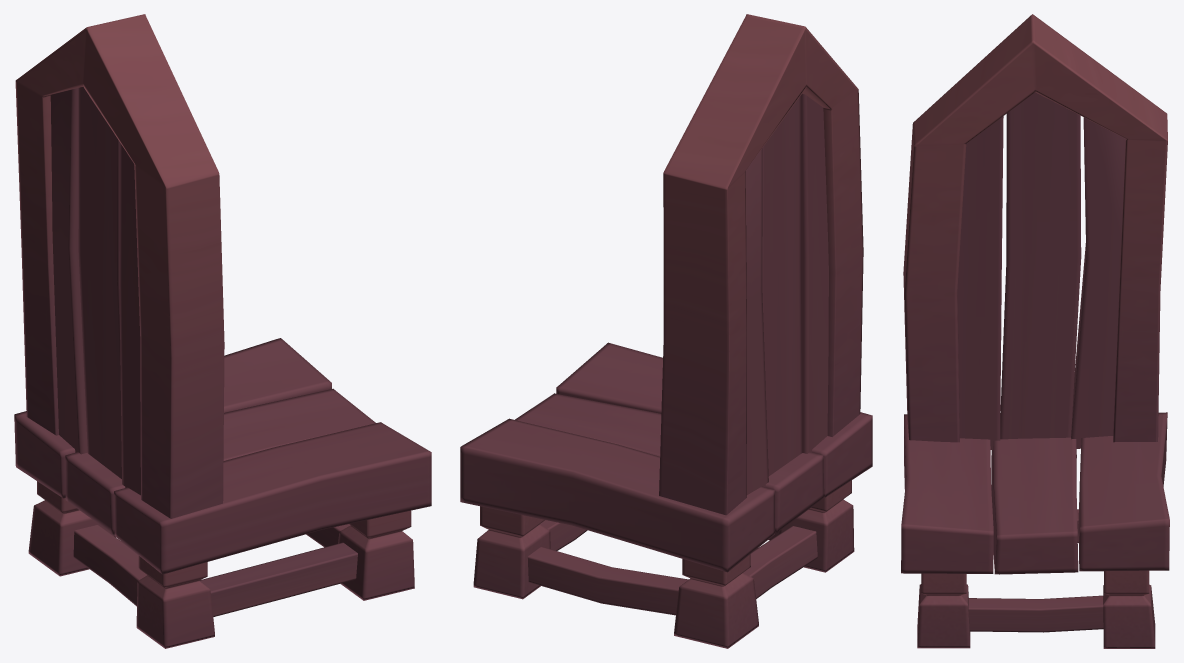
File: Chair_002.glb
The picture shows the model from 3 angles, left to right: view 1: azimuth 30°, elevation 25°; view 2: azimuth 150°, elevation 25°; view 3: azimuth 270°, elevation 25°; orthographic projection. The views are drawn at different scales.
Parts seen in each view (by area): view 1: Cube; view 2: Cube; view 3: Cube.
Boxes of the visible parts, x1,y1,x2,y2 form: Cube: (14,14,431,648); Cube: (460,14,872,648); Cube: (901,14,1169,648).
Bounding box in the file's own units: 2.7 × 5.43 × 2.55.
Materials: 1 (1 with a texture image).
